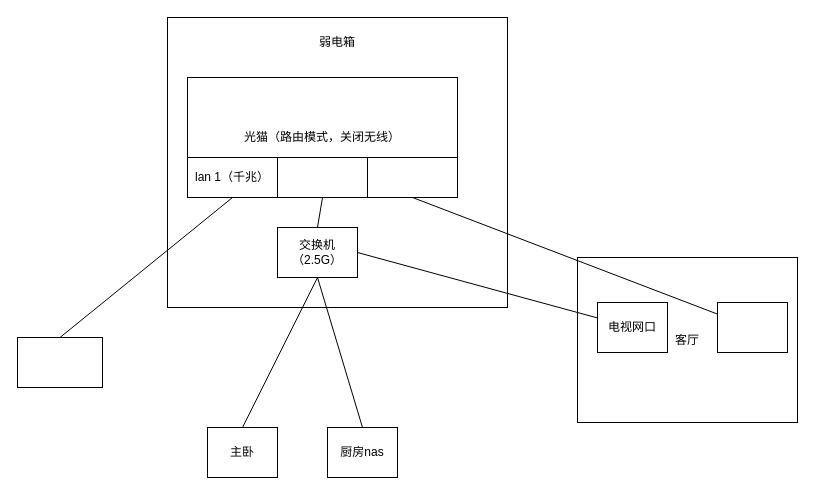
This 815x495 diagram has some shape labels left out. The box of each missing label's shape, as (x1, y1, x2, y2) in pixels:
IPTV: (366, 156, 458, 198)
lan2（千兆）: (276, 156, 368, 198)
机顶盒: (716, 302, 788, 352)
路由器（次卧千兆，关闭dhcp）: (16, 336, 102, 388)
